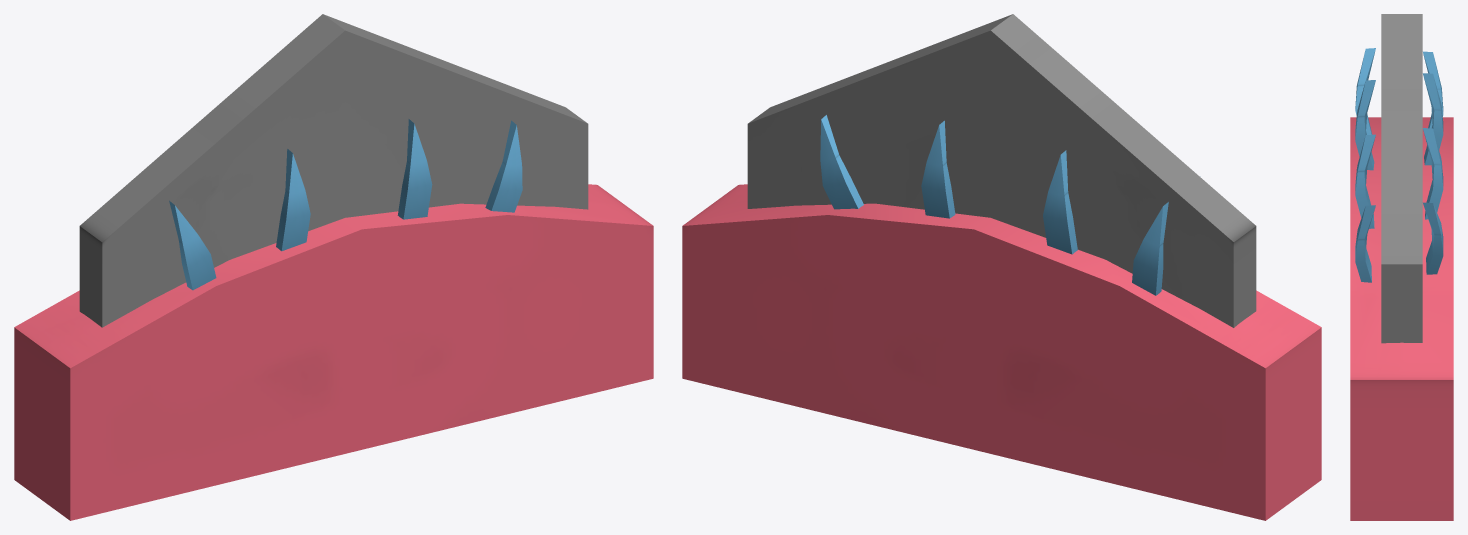
File: PoteGuardanapo.fbx
The picture shows the model from 3 angles, left to right: view 1: azimuth 30°, elevation 25°; view 2: azimuth 150°, elevation 25°; view 3: azimuth 270°, elevation 25°; orthographic projection. The views are drawn at different scales.
Parts seen in each view (by area): view 1: PoteGuardanapo; view 2: PoteGuardanapo; view 3: PoteGuardanapo.
Part boxes in pixels (box(x1,y1,x2,y2)): PoteGuardanapo: box(14, 14, 653, 520); PoteGuardanapo: box(682, 14, 1321, 520); PoteGuardanapo: box(1350, 14, 1453, 520).
Bounding box in the file's own units: 18 × 12 × 3.
